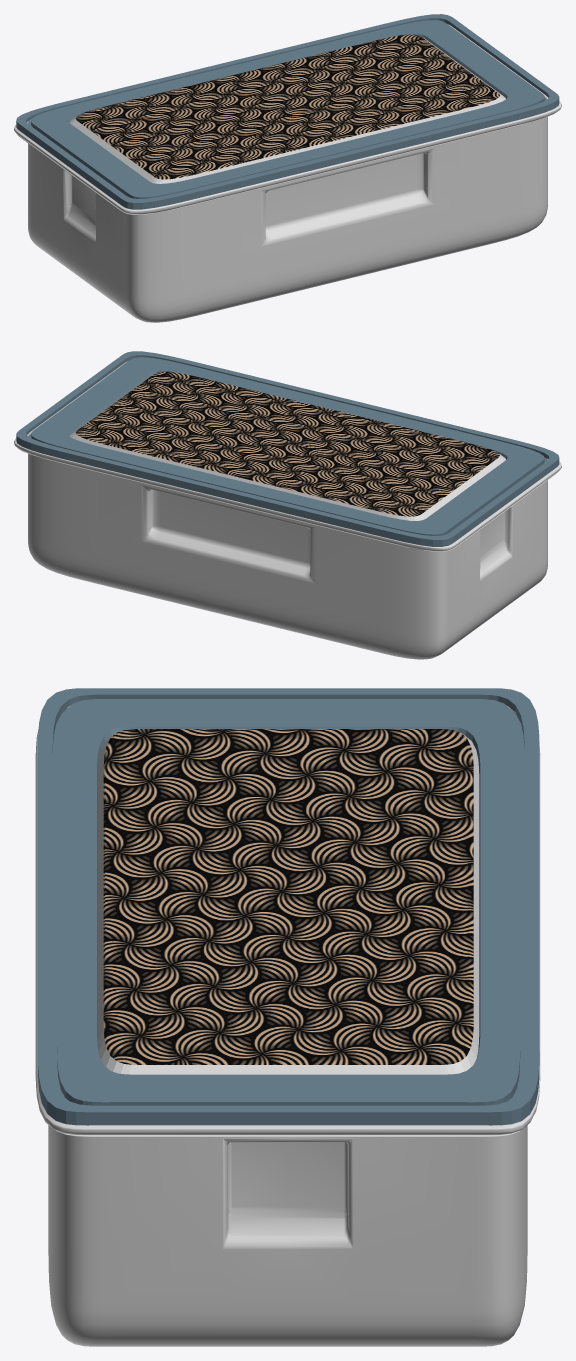
The model's file is Plasticbox-Mockup.glb.
3 views of the same model, one above another, from view 1: azimuth 30°, elevation 25°; view 2: azimuth 150°, elevation 25°; view 3: azimuth 270°, elevation 25° (orthographic). The views are drawn at different scales.
Parts seen in each view (by area): view 1: Plane.044, Plane.045; view 2: Plane.044, Plane.045; view 3: Plane.045, Plane.044.
Boxes of the visible parts, x1=… form: Plane.044: x1=14, y1=24, x2=561, y2=322; Plane.045: x1=16, y1=14, x2=559, y2=209; Plane.044: x1=14, y1=361, x2=561, y2=659; Plane.045: x1=16, y1=351, x2=559, y2=546; Plane.045: x1=38, y1=688, x2=539, y2=1125; Plane.044: x1=35, y1=705, x2=540, y2=1346.
Bounding box in the file's own units: 1.57 × 0.4702 × 0.7802.
Materials: 3 (1 with a texture image).
